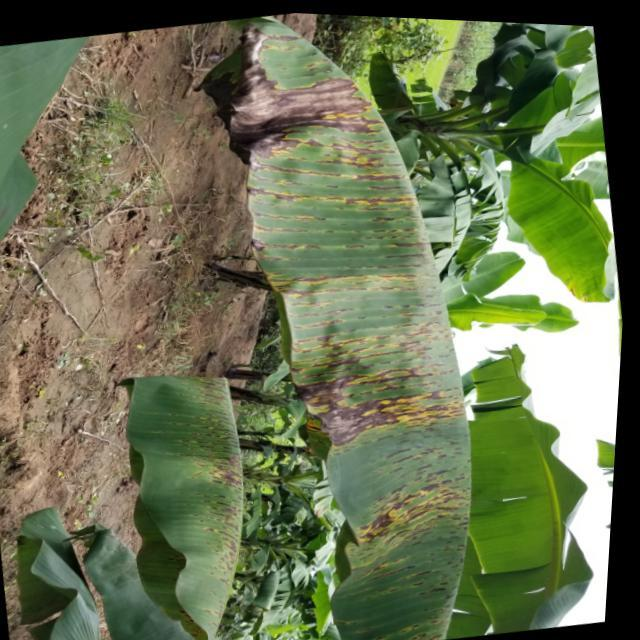Early_rust: (246, 3, 492, 634), (151, 356, 266, 633)
